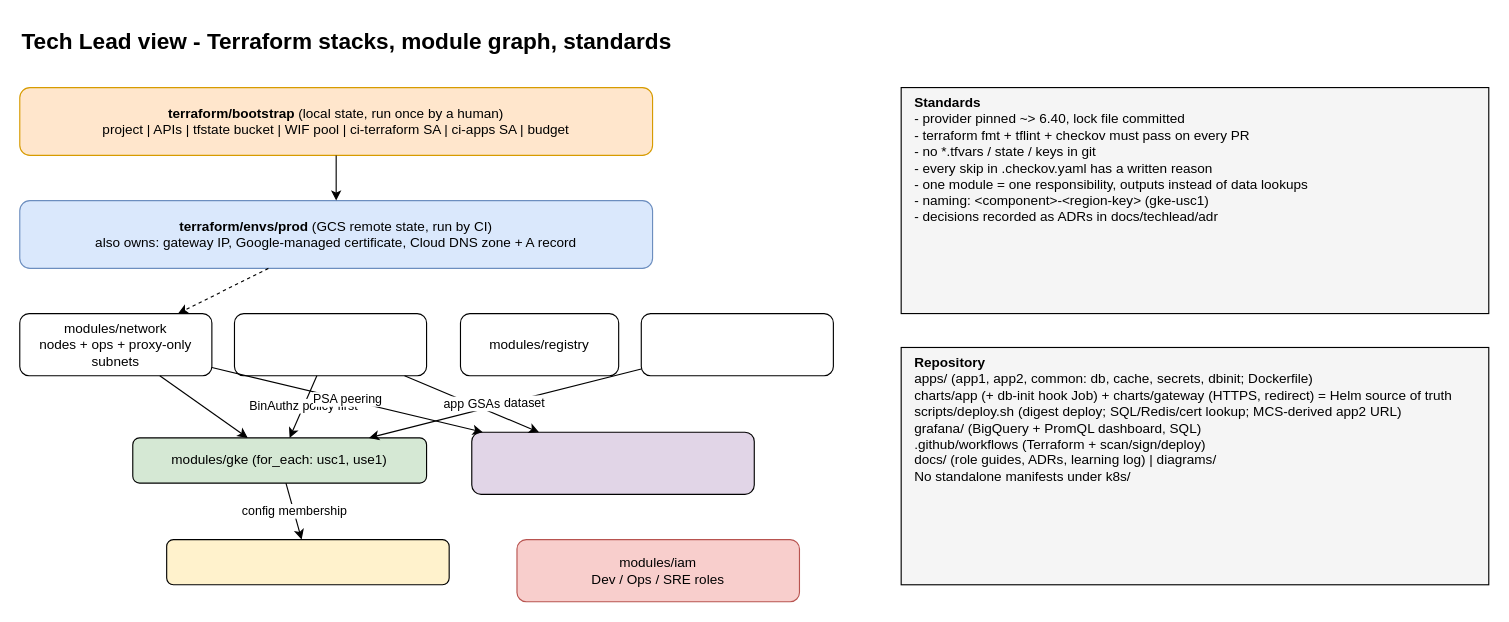
Some shapes in this 1509 by 622 pixel diagram are drawn without their labels. Each missing label, with the centre of its shape:
"modules/data SQL, Redis, Firestore, db-init identity, Redis secrets" goes at (x=612, y=462).
"modules/fleet (MCS + managed Cloud Service Mesh)" goes at (x=307, y=561).
"modules/observability HTTPS uptime + alerts" goes at (x=736, y=344).
"modules/security WI, secrets, Armor, BinAuthz" goes at (x=330, y=344).
